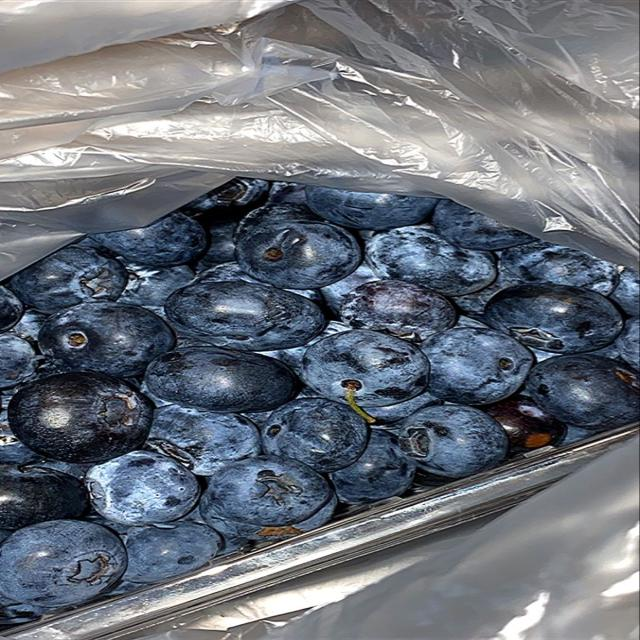blueberry: (8, 373, 152, 462), (165, 276, 325, 350), (0, 520, 126, 606), (38, 302, 175, 377), (145, 347, 297, 412), (303, 330, 429, 406), (484, 284, 622, 353), (200, 456, 332, 526), (367, 226, 496, 295), (236, 220, 361, 289), (422, 328, 533, 404), (86, 451, 199, 525), (528, 354, 639, 429), (262, 398, 368, 473), (148, 405, 261, 475), (204, 494, 337, 553), (10, 247, 127, 314), (400, 405, 508, 477), (340, 280, 456, 342), (500, 242, 618, 295), (91, 212, 206, 266), (330, 431, 415, 503), (125, 522, 219, 583), (305, 186, 438, 229), (0, 466, 88, 529), (432, 200, 534, 250), (483, 396, 566, 451), (178, 178, 269, 227), (274, 322, 349, 374), (193, 501, 260, 556), (233, 204, 324, 242), (119, 266, 195, 310), (452, 268, 520, 316), (321, 263, 379, 315), (369, 391, 442, 428), (0, 408, 41, 465), (0, 334, 37, 388), (197, 222, 236, 271), (199, 261, 264, 284), (198, 260, 261, 283), (0, 598, 46, 629), (611, 269, 639, 317), (11, 310, 47, 346), (30, 460, 92, 480), (615, 319, 639, 369), (85, 510, 130, 536), (0, 286, 23, 332), (558, 426, 607, 445), (140, 380, 173, 407), (268, 181, 306, 204), (589, 336, 621, 359), (242, 411, 272, 428), (529, 347, 559, 362), (454, 316, 489, 328), (0, 530, 12, 543)
